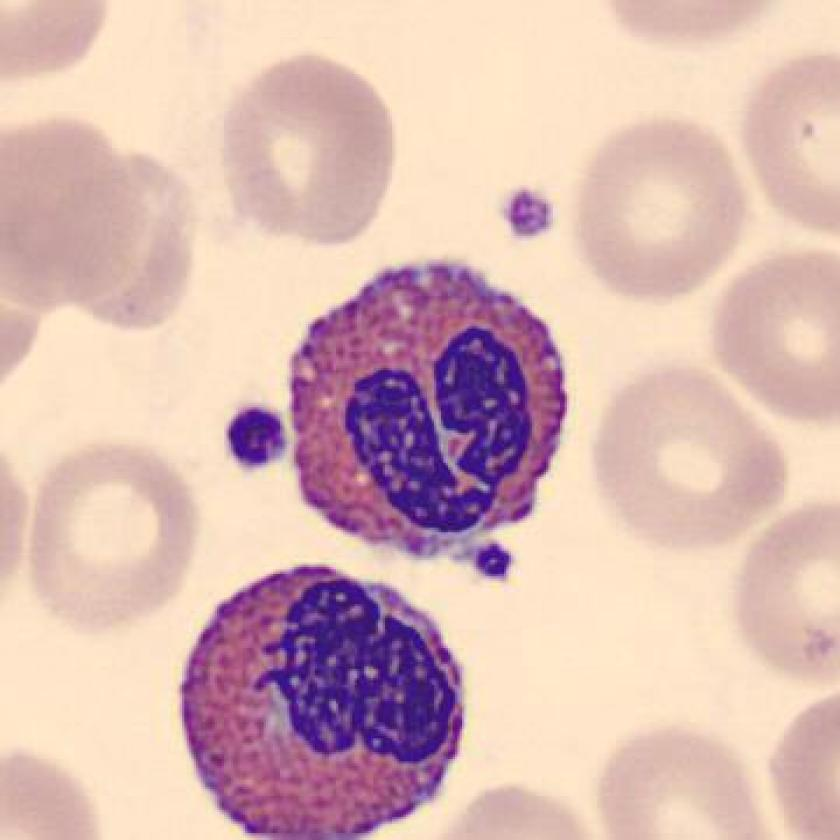eosinophil: (272, 251, 584, 568)
